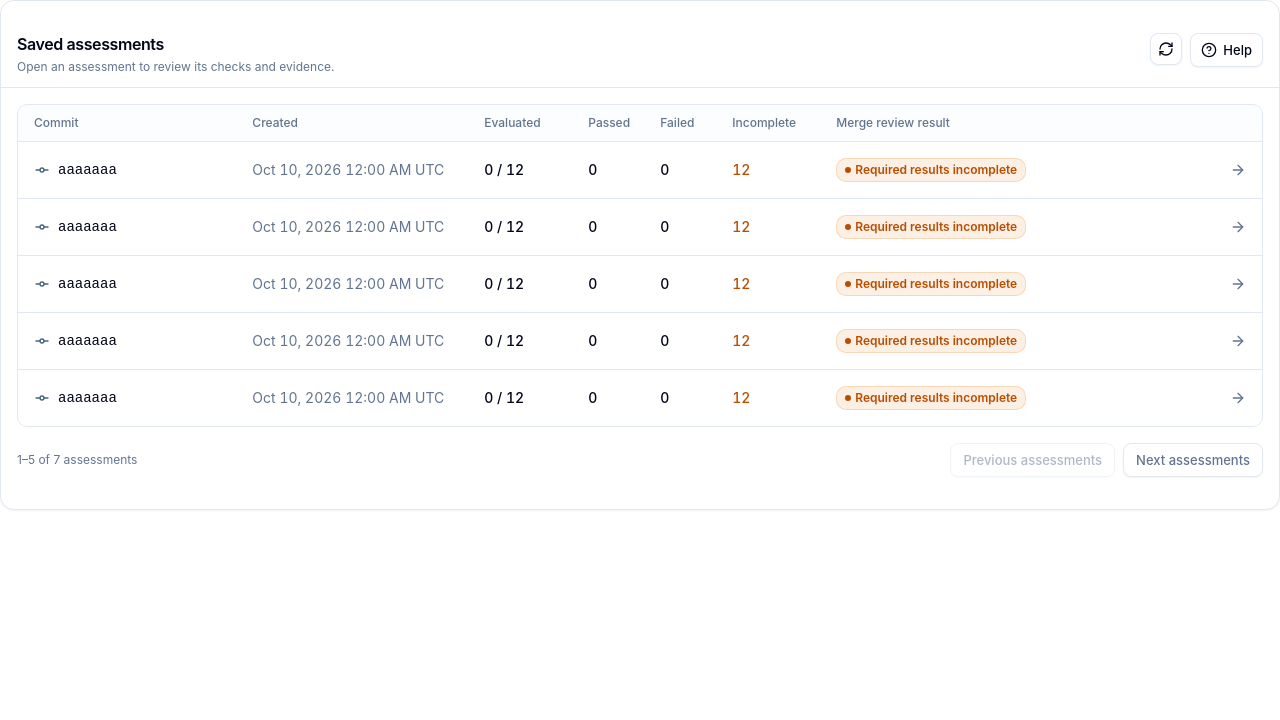
Test case: shows a bounded assessment list and links to a separate report instead of opening one automatically
The image size is (1280, 720).
Expected: the heading "Saved assessments" is shown, [17, 34, 164, 54]
Expected: the number of links is 5, [34, 158, 1246, 182]; [34, 215, 1246, 239]; [34, 272, 1246, 296]; [34, 329, 1246, 353]; [34, 386, 1246, 410]
Click the button "Next assessments". click: (1193, 460)
box: [1123, 443, 1263, 477]
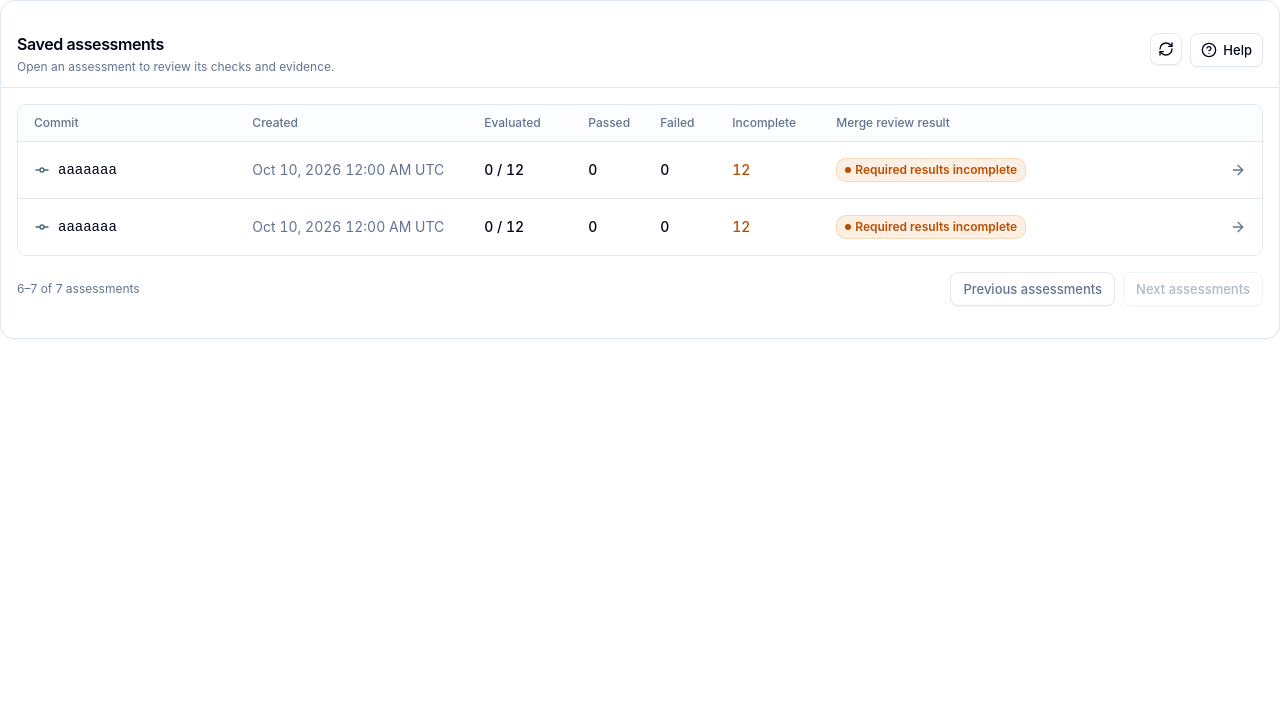
Expected: the number of links is 2, [34, 158, 1246, 182]; [34, 215, 1246, 239]
